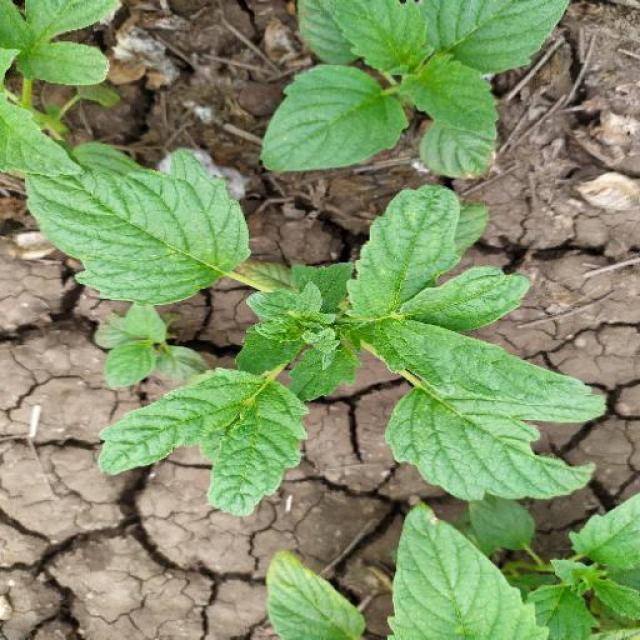crop: (21, 145, 619, 515), (215, 1, 606, 188)
